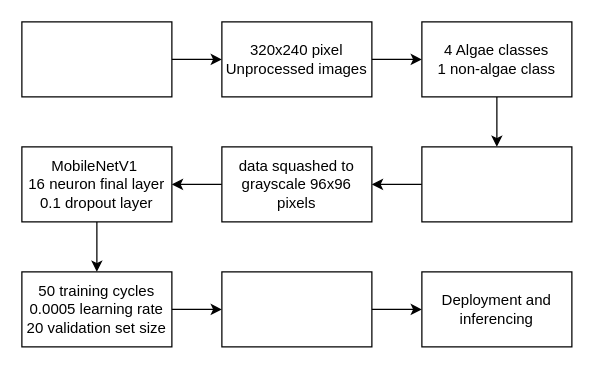
Image size: 594x369. Some labels were removed from this diagram. Each missing label, with the centre of its shape:
80/20 train/test split: (496,184)
CameraWebServer: (96,59)
Model Testing: (296,309)
